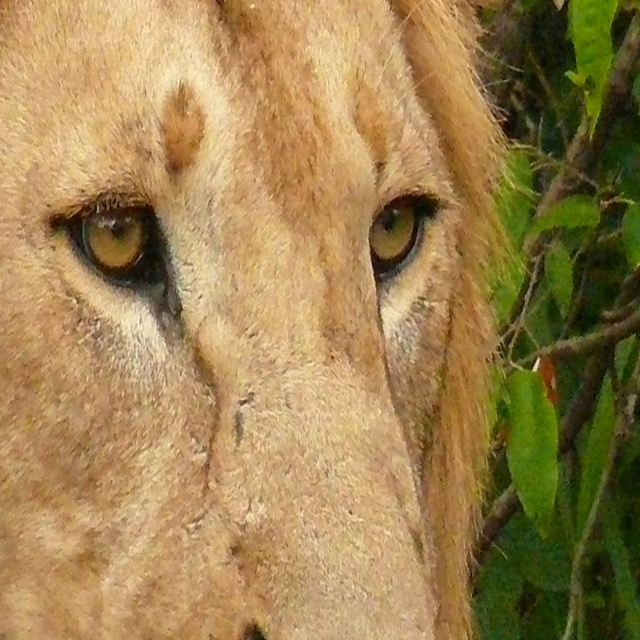Lion: (0, 0, 561, 640)
